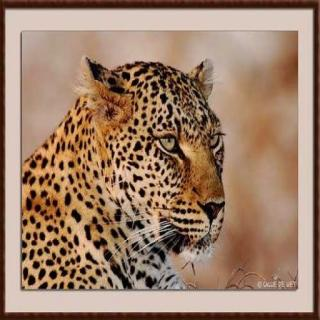Leopard: (22, 38, 254, 268)
